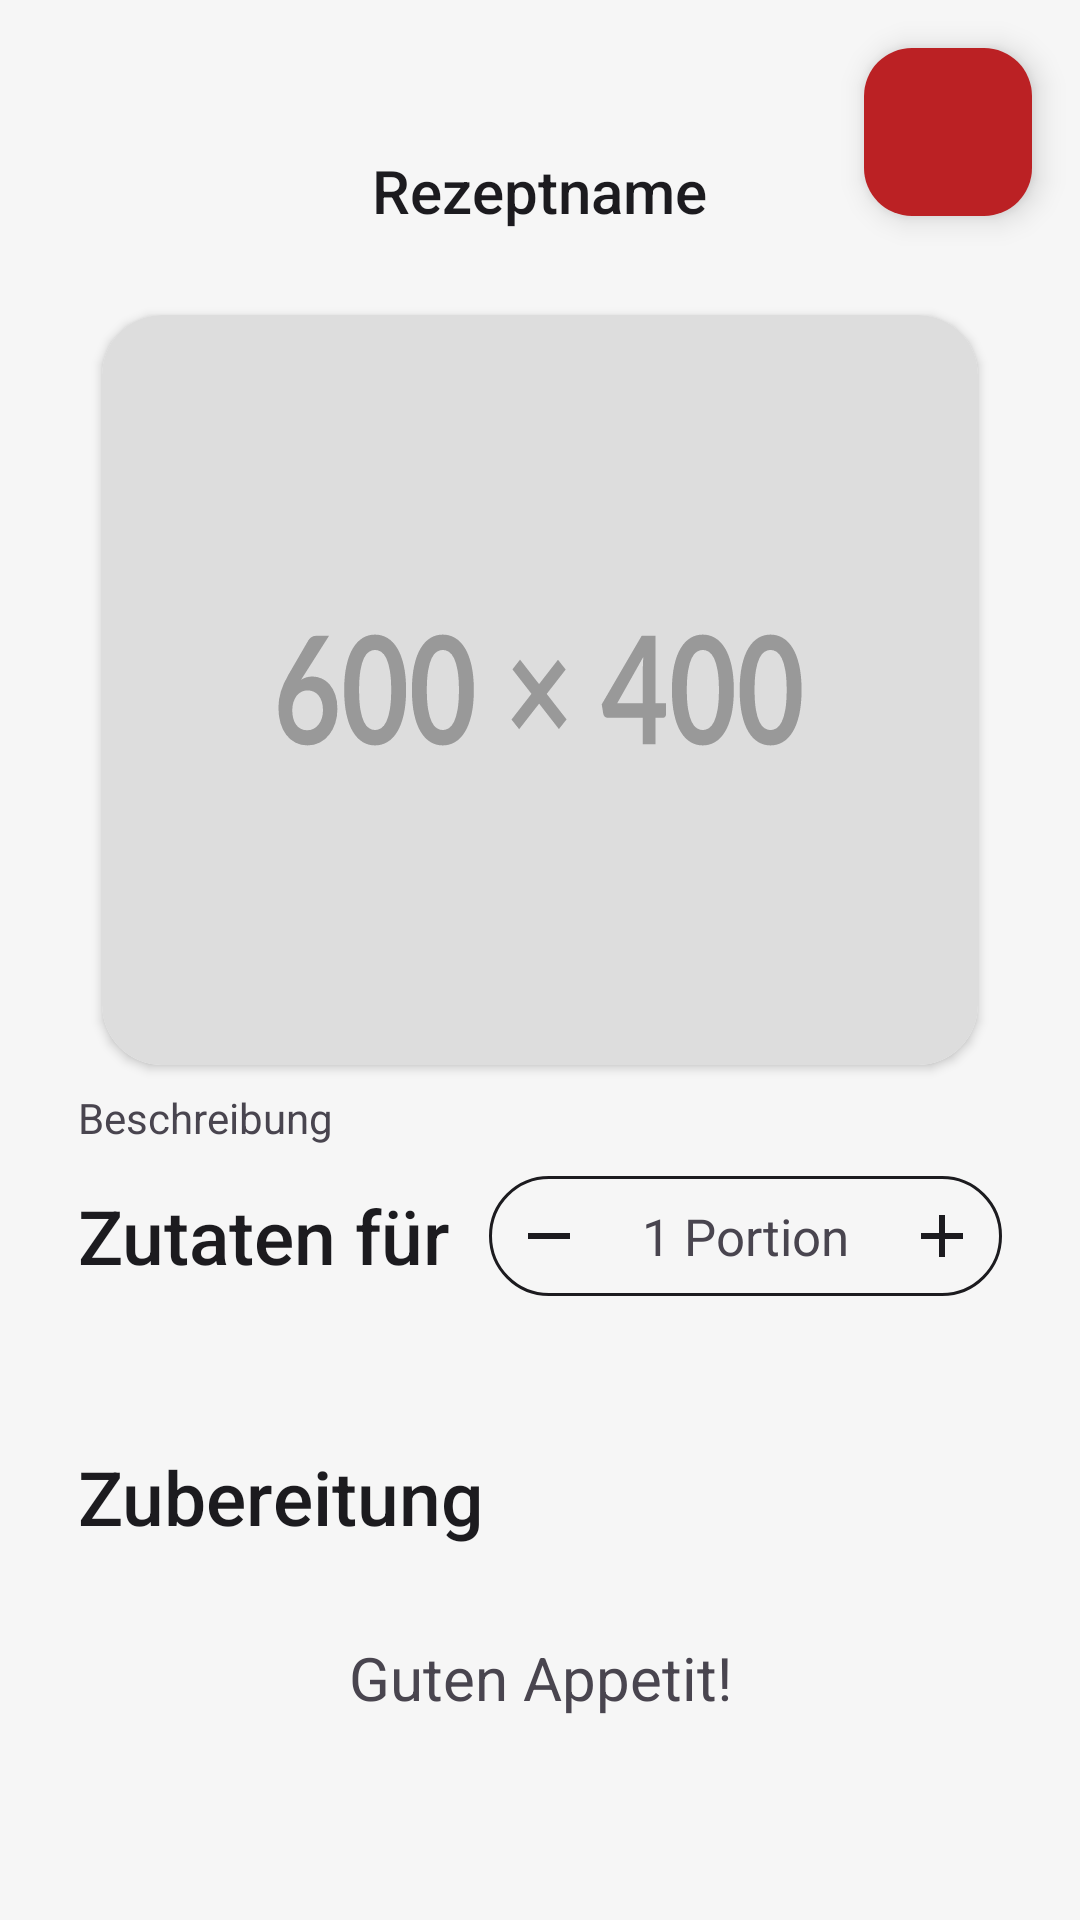

Named icons in this screenshot (1080w x 1920h) and their centers, (x,y):
add: (960,1236)
minus: (531,1236)
